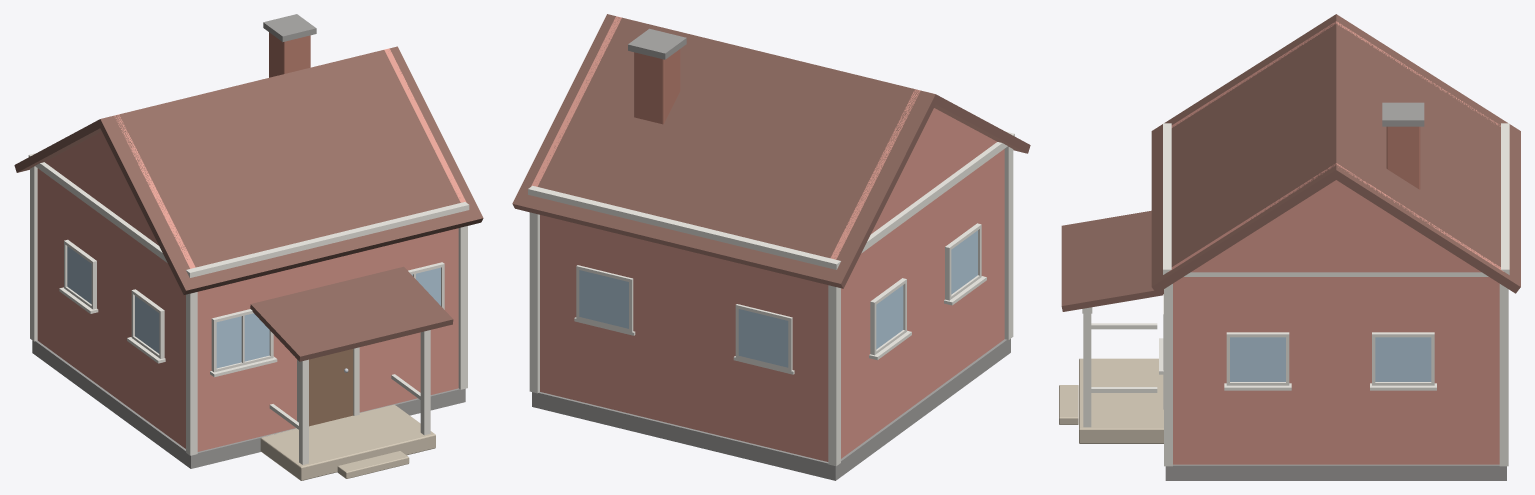
Rendered from HouseRedModel.glb.
3 views of the same model, side by side, from view 1: azimuth 30°, elevation 25°; view 2: azimuth 150°, elevation 25°; view 3: azimuth 270°, elevation 25° (orthographic). The views are drawn at different scales.
Parts seen in each view (by area): view 1: HouseRedModel; view 2: HouseRedModel; view 3: HouseRedModel.
Boxes of the visible parts, box(x1,y1,x2,y2) form: HouseRedModel: box(14, 14, 483, 480); HouseRedModel: box(512, 14, 1030, 480); HouseRedModel: box(1059, 14, 1520, 480).
Size of the model in its own units: 6.6 by 6.61 by 8.26.
